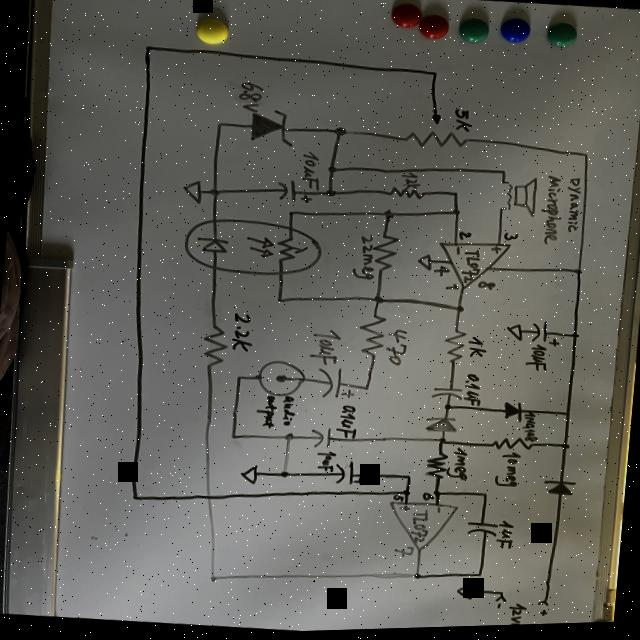capacitor: (315, 366, 358, 403), (332, 459, 368, 488), (275, 178, 315, 204), (528, 320, 562, 350), (464, 520, 500, 540), (310, 426, 334, 451), (429, 386, 464, 403)
crossover: (204, 492, 215, 501)
diode: (248, 105, 295, 149), (542, 479, 578, 500), (424, 415, 459, 436), (501, 400, 525, 424)
ground: (182, 177, 205, 205), (238, 462, 260, 486), (504, 323, 526, 344), (456, 583, 475, 602), (416, 254, 434, 272)
junction: (332, 125, 348, 139), (381, 208, 395, 224), (371, 295, 386, 306), (279, 468, 292, 480), (142, 42, 156, 53), (324, 188, 338, 199), (428, 70, 442, 81), (282, 432, 296, 443), (210, 186, 222, 198), (129, 492, 142, 502), (402, 474, 415, 484), (274, 295, 286, 305), (326, 165, 338, 175), (442, 404, 455, 413), (451, 209, 462, 219), (454, 306, 466, 315), (228, 432, 240, 441), (214, 120, 226, 129), (362, 384, 372, 394), (560, 444, 571, 453), (437, 438, 448, 447), (412, 573, 423, 582), (208, 574, 219, 583), (433, 490, 443, 499), (570, 334, 581, 342), (574, 270, 583, 278), (480, 493, 489, 501), (402, 490, 412, 497), (235, 374, 244, 381), (476, 572, 484, 579), (500, 170, 508, 177), (582, 153, 590, 160), (286, 210, 294, 217), (564, 412, 572, 419), (452, 192, 459, 199), (498, 592, 504, 597)
resistor: (402, 110, 471, 154), (356, 311, 390, 360), (200, 323, 232, 371), (371, 233, 402, 276), (442, 330, 468, 367), (488, 435, 532, 456), (384, 185, 428, 204), (423, 452, 449, 482)
terminal: (254, 358, 307, 400), (536, 601, 550, 610), (494, 598, 506, 605)
text: (540, 176, 568, 249), (307, 327, 344, 368), (351, 233, 379, 282), (228, 310, 257, 355), (562, 177, 583, 237), (493, 452, 522, 491), (384, 328, 411, 369), (236, 81, 266, 114), (299, 150, 322, 192), (334, 403, 359, 441), (444, 447, 470, 483), (460, 374, 486, 408), (254, 394, 278, 430), (461, 250, 482, 286), (524, 345, 550, 374), (410, 509, 431, 543), (520, 413, 540, 445), (496, 520, 516, 551), (452, 109, 476, 134), (465, 337, 489, 361), (280, 396, 298, 427), (315, 450, 337, 473), (506, 605, 527, 628), (400, 172, 422, 193), (392, 545, 414, 560), (432, 265, 452, 280), (476, 282, 497, 291), (502, 233, 520, 243), (422, 492, 436, 504), (458, 232, 472, 243), (398, 505, 412, 514), (490, 247, 502, 257), (392, 495, 405, 504), (538, 610, 549, 619), (448, 285, 460, 293), (454, 247, 462, 256), (436, 507, 444, 515), (494, 604, 502, 611)
